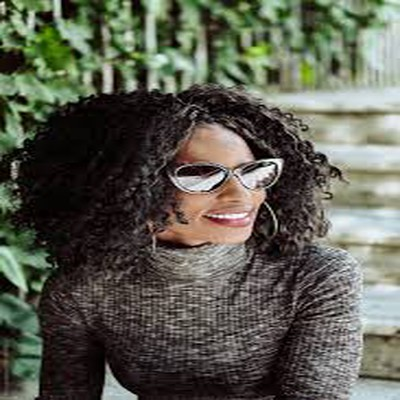eywear: (162, 153, 290, 208)
